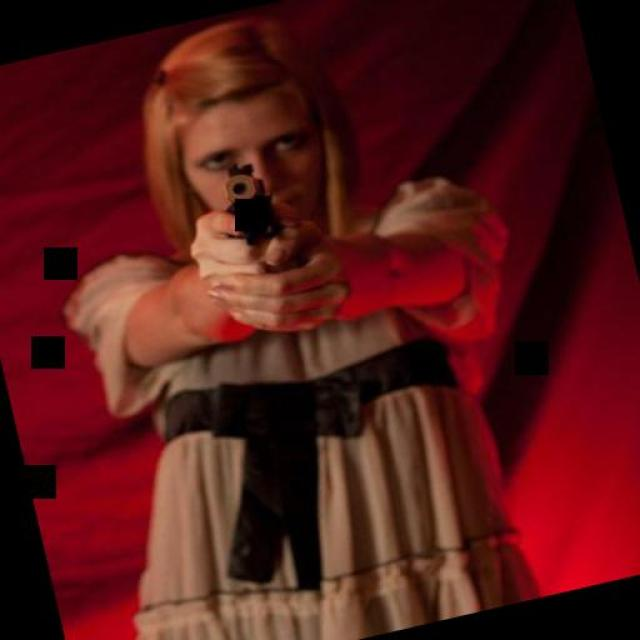gun: (208, 152, 300, 256)
